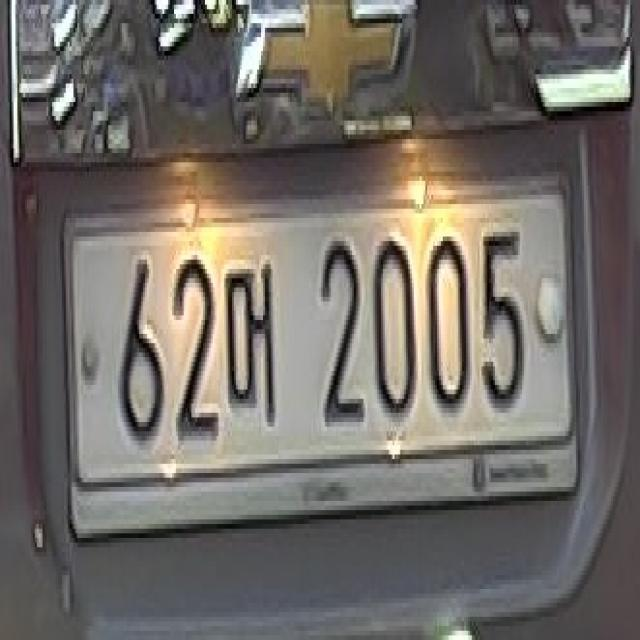0: (374, 225, 420, 438), (425, 222, 471, 426)
2: (318, 231, 372, 449), (169, 252, 223, 456)
5: (480, 208, 528, 428)
6: (112, 246, 166, 451)
license_plate: (51, 121, 600, 586)
meo: (224, 252, 284, 444)
